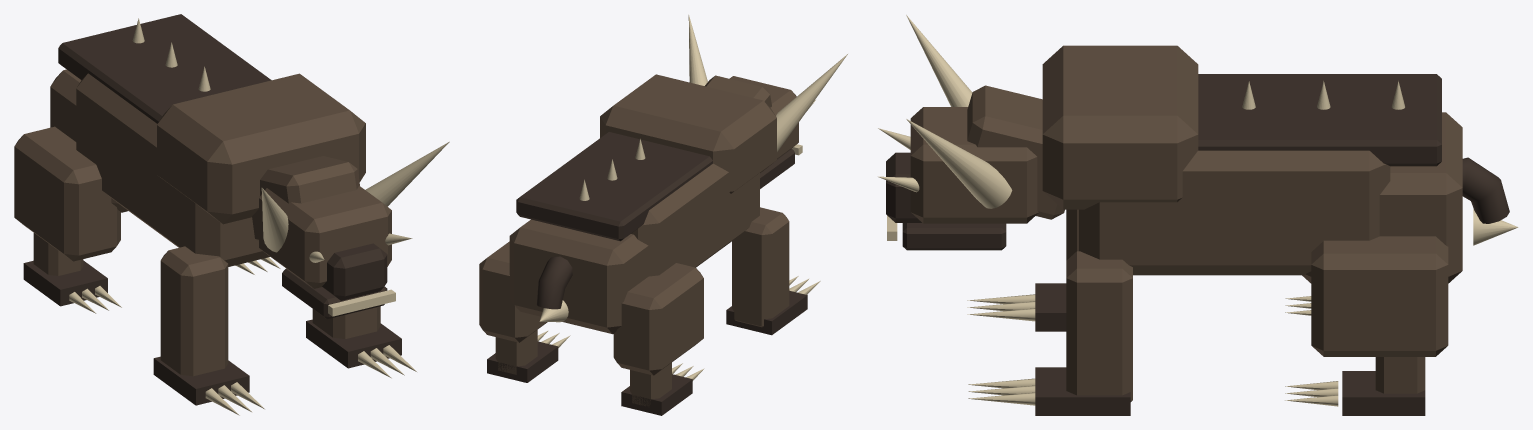
3 views of the same model, side by side, from view 1: azimuth 30°, elevation 25°; view 2: azimuth 150°, elevation 25°; view 3: azimuth 270°, elevation 25° (orthographic). The views are drawn at different scales.
Parts seen in each view (by area): view 1: survival_klauwbeest; view 2: survival_klauwbeest; view 3: survival_klauwbeest.
Boxes of the visible parts, x1,y1,x2,y2 form: survival_klauwbeest: (14, 14, 449, 415); survival_klauwbeest: (479, 14, 847, 415); survival_klauwbeest: (878, 15, 1518, 415).
Size of the model in its own units: 1.36 by 1.56 by 3.09.
